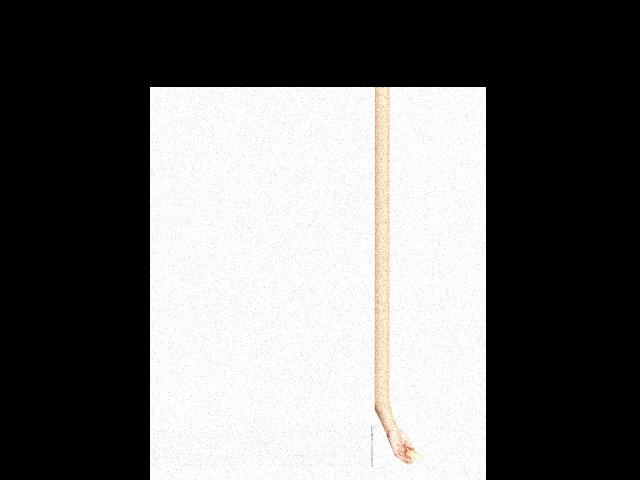egg: (404, 449, 421, 461)
